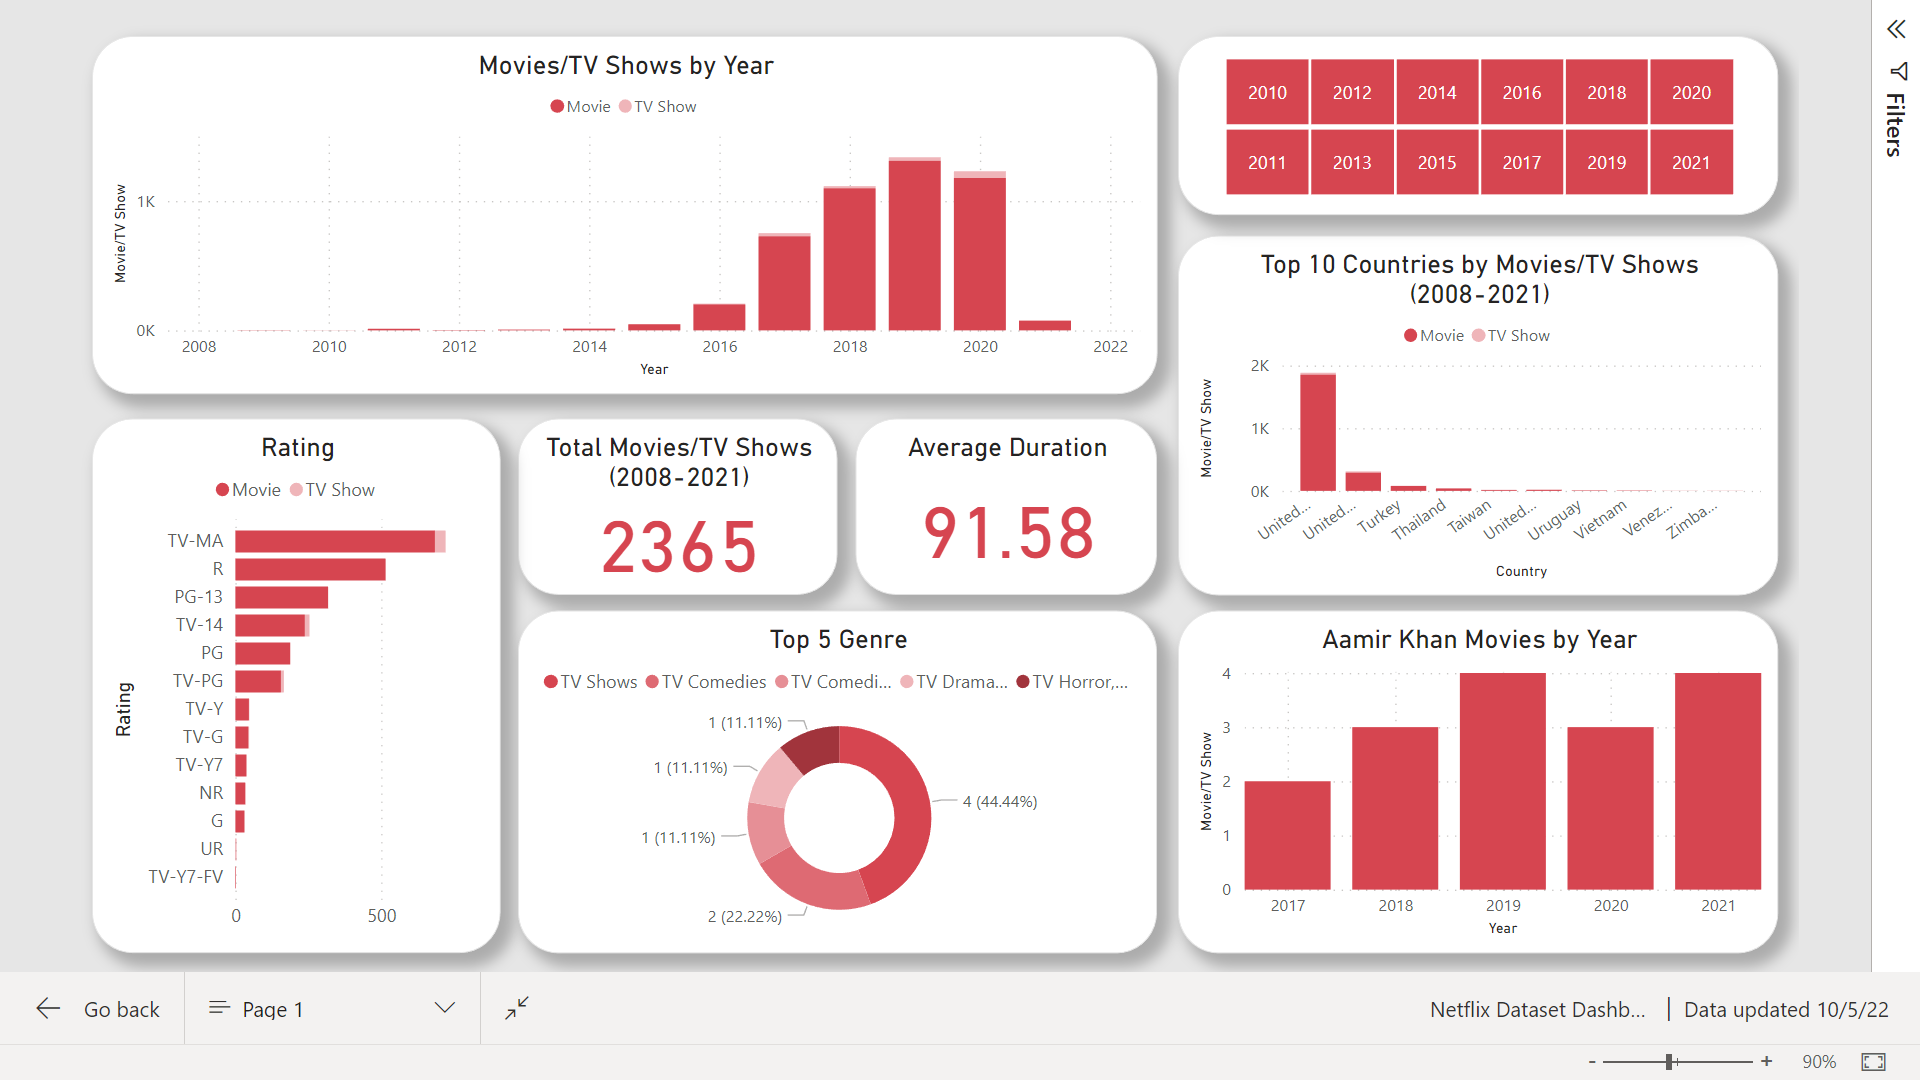

Layout of this report page (visuals, bound fields, positions):
{"tool":"powerbi","page":{"name":"Page 1","canvas":[1280,720],"ordinal":0},"visuals":[{"type":"columnChart","title":"Movies/TV Shows by Year","fields":{"Category":["Netflix Dataset.Year"],"Y":["Netflix Dataset.Category"],"Series":["Netflix Dataset.Category"]},"box":[15.1,15.1,789.6,265.1],"z":0},{"type":"columnChart","title":"Top 10 Countries by Movies/TV Shows (2008-2021)","fields":{"Category":["Netflix Dataset.Country"],"Y":["Netflix Dataset.Category"],"Series":["Netflix Dataset.Category"]},"box":[819.9,162.8,445,267],"z":1000},{"type":"card","title":"Total Movies/TV Shows (2008-2021)","fields":{"Values":["Netflix Dataset.Movie/TV Show"]},"box":[331.4,299.2,236.7,130.7],"z":2000},{"type":"barChart","title":"Rating","fields":{"Y":["Netflix Dataset.Movie/TV Show"],"Series":["Netflix Dataset.Movie/TV Show"],"Category":["Netflix Dataset.Rating"]},"box":[15.1,299.2,303,395.7],"z":3000},{"type":"card","title":"Average Duration","fields":{"Values":["Netflix Dataset.Duration"]},"box":[581.3,299.2,223.4,130.7],"z":4000},{"type":"donutChart","title":"Top 5 Genre","fields":{"Category":["Netflix Dataset.Type"],"Y":["Netflix Dataset.Movie/TV Show"],"Series":["Netflix Dataset.Movie/TV Show"]},"box":[331.4,441.2,473.4,253.7],"z":5000},{"type":"clusteredColumnChart","title":"Aamir Khan Movies by Year","fields":{"Category":["Netflix Dataset.Year"],"Y":["Netflix Dataset.Movie/TV Show"]},"box":[819.9,441.2,445,253.7],"z":5001},{"type":"slicer","title":"Total Movies/TV Shows (2008-2021)","fields":{"Values":["Netflix Dataset.Year"]},"box":[819.9,15.1,445,132.5],"z":5002}]}

Visuals, with their boxes on the page's 1280x720 design canvas (x1, y1, x2, y2). These are canvas units, not pixel positions in the 1920x1080 screenshot, which may show the page scaled, cropped or inside an application window:
"Movies/TV Shows by Year" columnChart: bbox(15, 15, 805, 280)
"Top 10 Countries by Movies/TV Shows (2008-2021)" columnChart: bbox(820, 163, 1265, 430)
"Total Movies/TV Shows (2008-2021)" card: bbox(331, 299, 568, 430)
"Rating" barChart: bbox(15, 299, 318, 695)
"Average Duration" card: bbox(581, 299, 805, 430)
"Top 5 Genre" donutChart: bbox(331, 441, 805, 695)
"Aamir Khan Movies by Year" clusteredColumnChart: bbox(820, 441, 1265, 695)
"Total Movies/TV Shows (2008-2021)" slicer: bbox(820, 15, 1265, 148)
